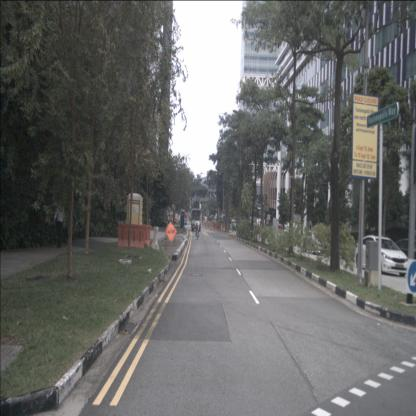barrier: (117, 224, 145, 250), (130, 223, 152, 249), (152, 225, 160, 250), (213, 222, 222, 231)
